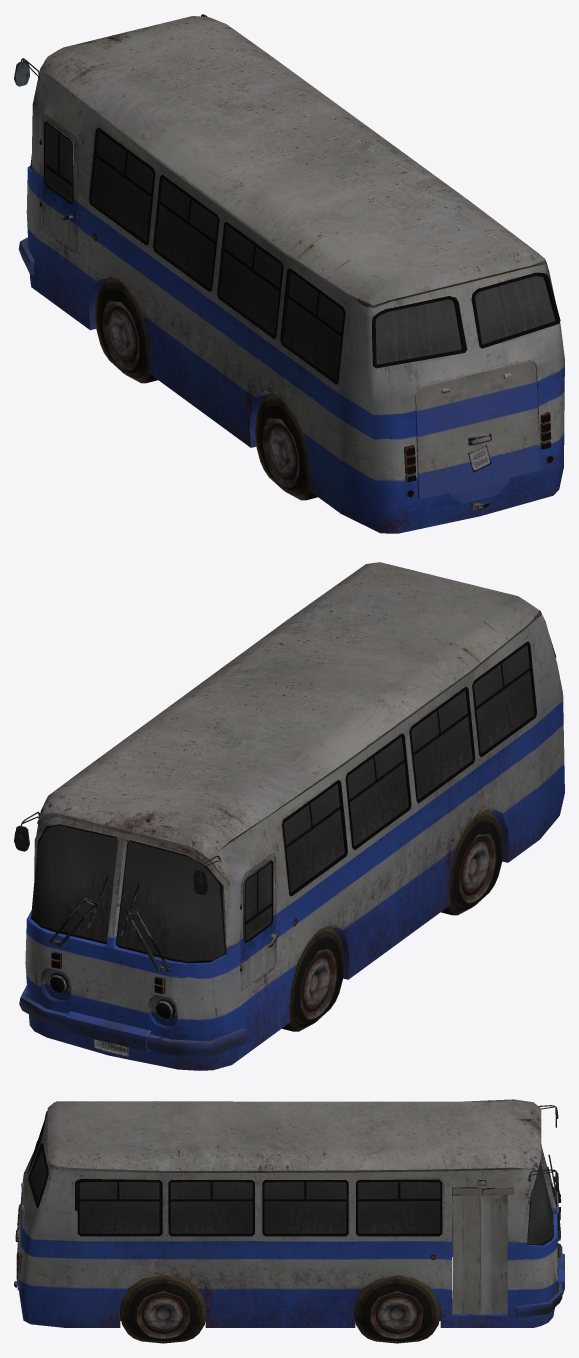
File: bus.glb
3 renders of one model, top to bottom at view 1: azimuth 30°, elevation 25°; view 2: azimuth 150°, elevation 25°; view 3: azimuth 270°, elevation 25°, orthographic. The views are drawn at different scales.
Visible parts, largest first — view 1: FINAL:bus_ussr_bus_ussr1_0; view 2: FINAL:bus_ussr_bus_ussr1_0; view 3: FINAL:bus_ussr_bus_ussr1_0.
Part boxes in pixels (x1=…): FINAL:bus_ussr_bus_ussr1_0: x1=14, y1=14, x2=564, y2=533; FINAL:bus_ussr_bus_ussr1_0: x1=14, y1=562, x2=564, y2=1070; FINAL:bus_ussr_bus_ussr1_0: x1=14, y1=1099, x2=564, y2=1343.
Size of the model in its own units: 3.7 by 4.11 by 11.
Materials: 1 (1 with a texture image).
